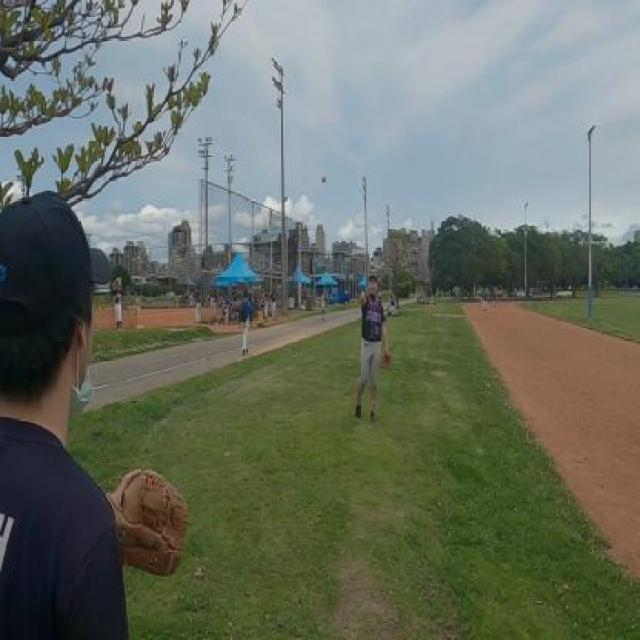baseball: (322, 172, 327, 185)
